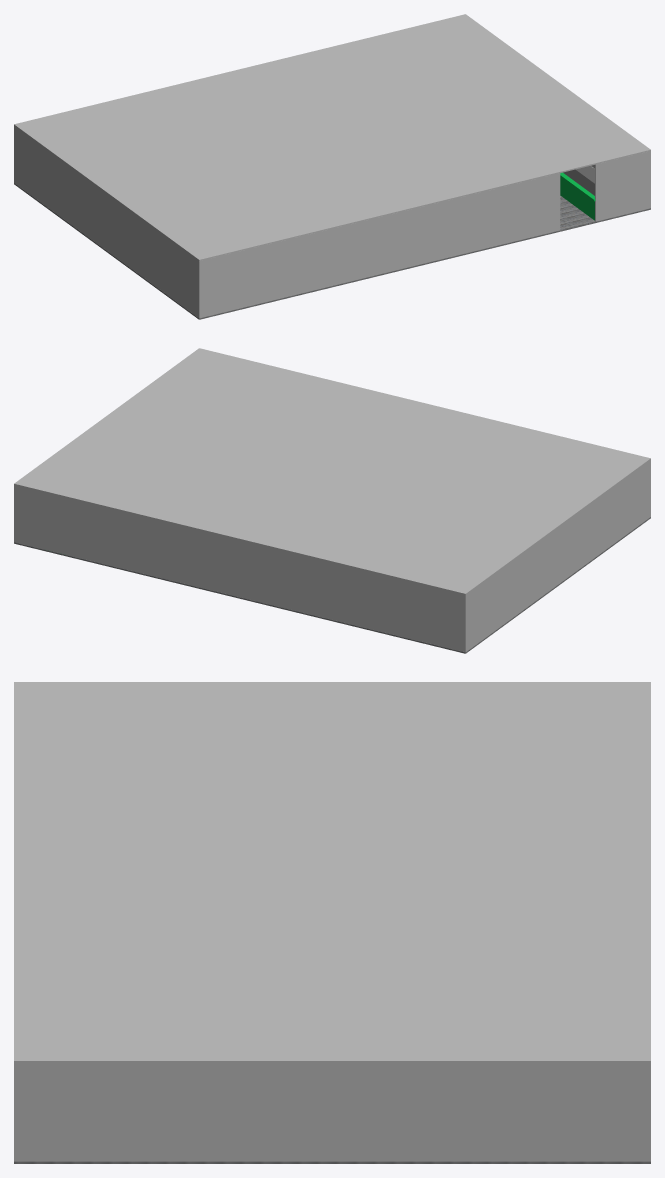
Rendered from EsenarioSinColumnas.fbx.
3 renders of one model, top to bottom at view 1: azimuth 30°, elevation 25°; view 2: azimuth 150°, elevation 25°; view 3: azimuth 270°, elevation 25°, orthographic. The views are drawn at different scales.
Parts seen in each view (by area): view 1: Piso.001, Pared 1.003, Pared 1.002, Pared 1.004, Piso, KioskoBase, Vidriera1; view 2: Piso.001, Pared 1, Pared 1.002, Piso; view 3: Piso.001, Pared 1.001, Piso.
Part boxes in pixels (x1=…): Piso.001: x1=14, y1=14, x2=650, y2=260; Pared 1.003: x1=198, y1=173, x2=560, y2=318; Pared 1.002: x1=15, y1=126, x2=198, y2=317; Pared 1.004: x1=595, y1=151, x2=649, y2=221; Piso: x1=14, y1=166, x2=650, y2=319; KioskoBase: x1=560, y1=172, x2=595, y2=220; Vidriera1: x1=563, y1=166, x2=594, y2=195; Piso.001: x1=14, y1=348, x2=650, y2=594; Pared 1: x1=15, y1=485, x2=466, y2=651; Pared 1.002: x1=464, y1=460, x2=650, y2=652; Piso: x1=14, y1=517, x2=650, y2=653; Piso.001: x1=14, y1=682, x2=650, y2=1062; Pared 1.001: x1=14, y1=1063, x2=650, y2=1161; Piso: x1=14, y1=1161, x2=650, y2=1163.
Bounding box in the file's own units: 14045 × 1781 × 9979.
